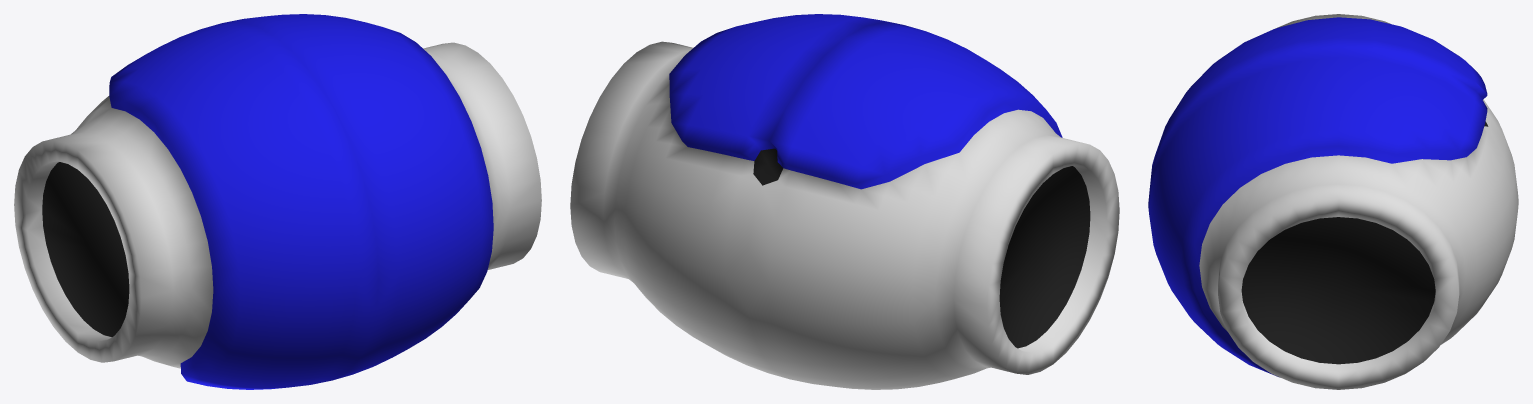
File: naohead.obj
The picture shows the model from 3 angles, left to right: view 1: azimuth 30°, elevation 25°; view 2: azimuth 150°, elevation 25°; view 3: azimuth 270°, elevation 25°; orthographic projection. The views are drawn at different scales.
Parts seen in each view (by area): view 1: this_is_here_because_of_a_bug_in_simsaprk, Sphere; view 2: Sphere, this_is_here_because_of_a_bug_in_simsaprk; view 3: this_is_here_because_of_a_bug_in_simsaprk, Sphere.
Boxes of the visible parts, bbox=[...] form: this_is_here_because_of_a_bug_in_simsaprk: bbox=[42, 14, 493, 389]; Sphere: bbox=[14, 42, 541, 368]; Sphere: bbox=[570, 41, 1119, 389]; this_is_here_because_of_a_bug_in_simsaprk: bbox=[669, 14, 1090, 348]; this_is_here_because_of_a_bug_in_simsaprk: bbox=[1148, 17, 1488, 377]; Sphere: bbox=[1199, 14, 1518, 389].
Bounding box in the file's own units: 0.132 × 0.1 × 0.112.
